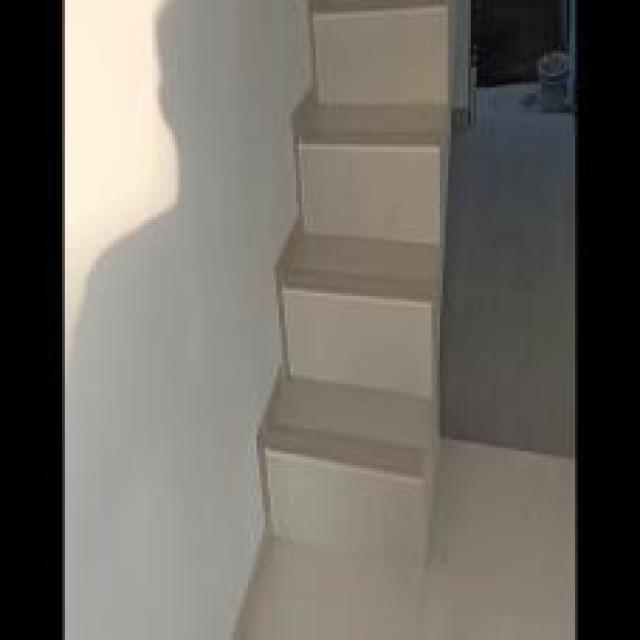upstair: (297, 74, 441, 582)
